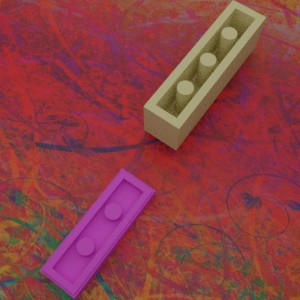lego: (143, 0, 266, 150), (39, 168, 155, 300)
